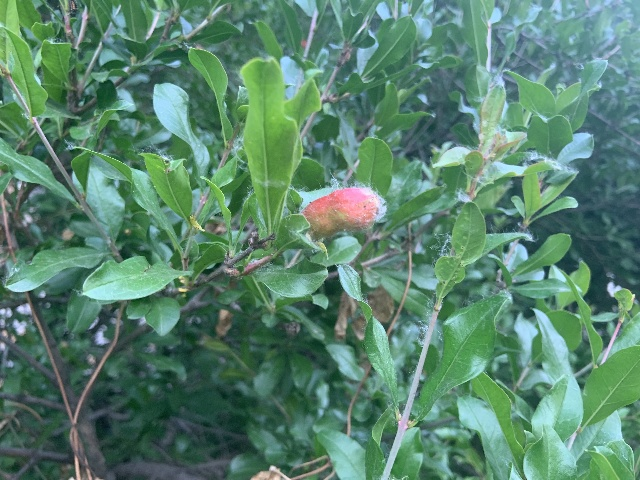bud: (303, 187, 380, 238)
